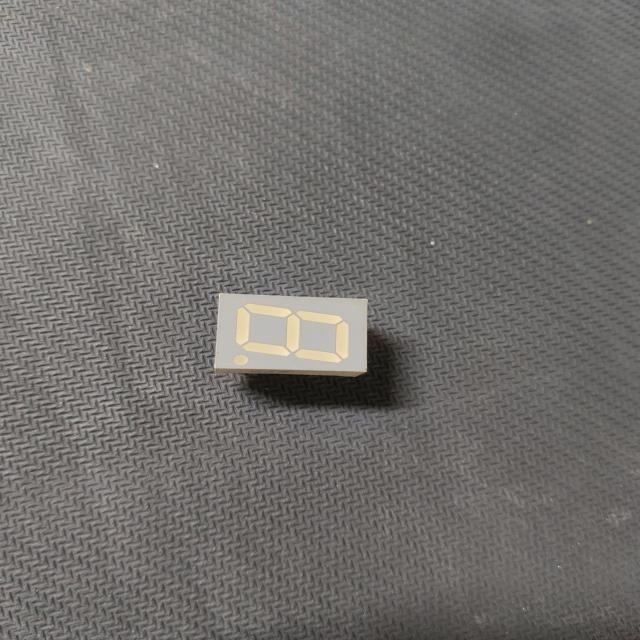sevensegment: (206, 283, 388, 390)
